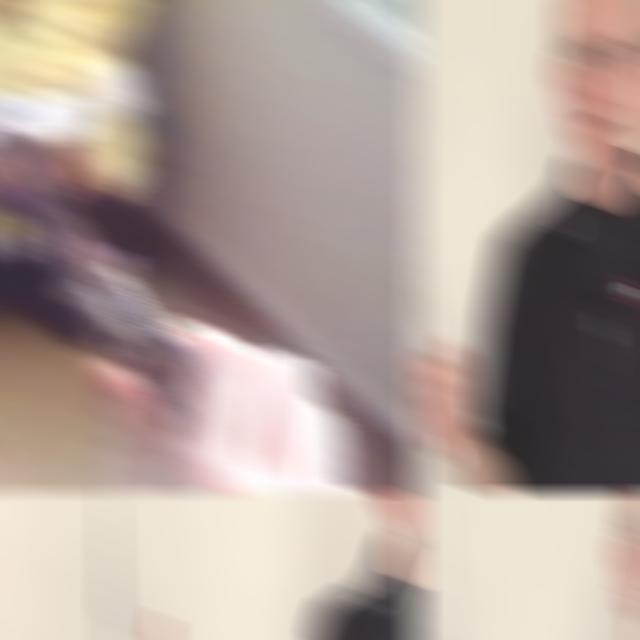Knife_Handle: (0, 29, 361, 494), (410, 151, 476, 468), (76, 490, 187, 640), (420, 490, 498, 640)
